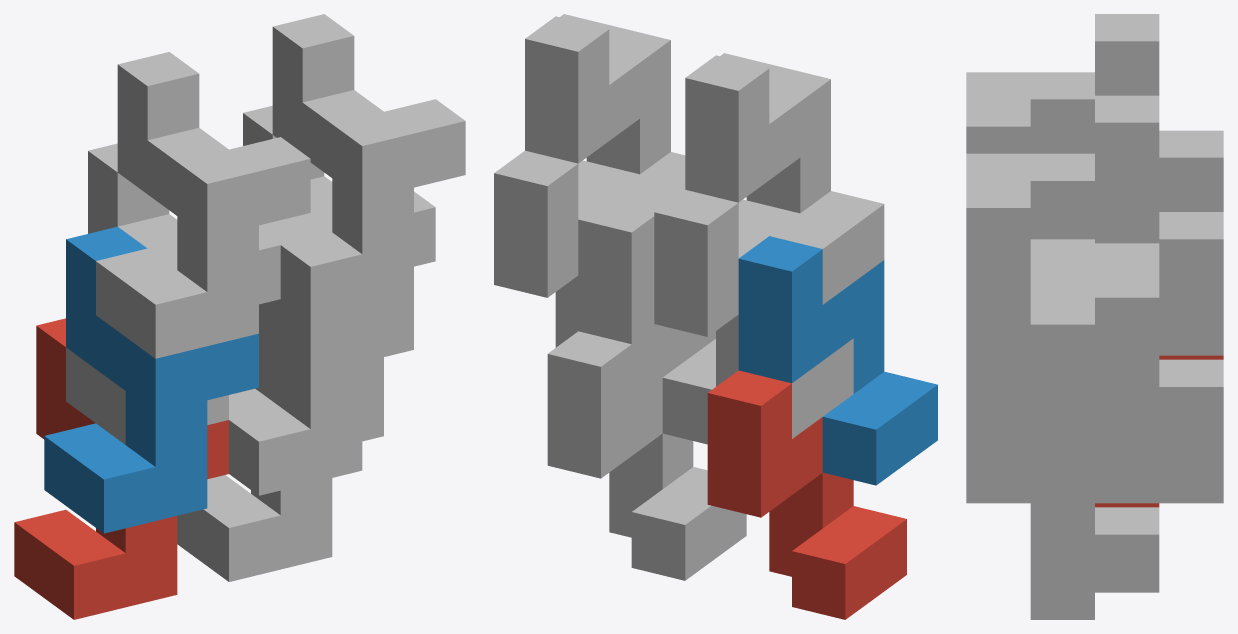
The model's file is tiling.obj.
3 views of the same model, side by side, from view 1: azimuth 30°, elevation 25°; view 2: azimuth 150°, elevation 25°; view 3: azimuth 270°, elevation 25° (orthographic). The views are drawn at different scales.
Parts seen in each view (by area): view 1: copy_1_domain_4, copy_1_domain_8, copy_1_domain_2, copy_1_domain_6, copy_1_domain_1, copy_1_domain_5, copy_1_domain_3, copy_1_domain_7; view 2: copy_1_domain_1, copy_1_domain_4, copy_1_domain_2, copy_1_domain_5, copy_1_domain_8, copy_1_domain_3, copy_1_domain_7, copy_1_domain_6; view 3: copy_1_domain_7, copy_1_domain_8, copy_1_domain_5, copy_1_domain_4, copy_1_domain_6, copy_1_domain_3, copy_1_domain_1.
Boxes of the visible parts, left/top/right/bottom form: copy_1_domain_4: left=96, top=52, right=310, bottom=358; copy_1_domain_8: left=259, top=14, right=465, bottom=320; copy_1_domain_2: left=44, top=226, right=258, bottom=533; copy_1_domain_6: left=229, top=296, right=413, bottom=495; copy_1_domain_1: left=14, top=318, right=228, bottom=619; copy_1_domain_5: left=177, top=382, right=383, bottom=581; copy_1_domain_3: left=66, top=143, right=280, bottom=444; copy_1_domain_7: left=243, top=105, right=435, bottom=406; copy_1_domain_1: left=707, top=370, right=906, bottom=619; copy_1_domain_4: left=685, top=53, right=884, bottom=304; copy_1_domain_2: left=738, top=236, right=937, bottom=485; copy_1_domain_5: left=547, top=331, right=746, bottom=580; copy_1_domain_8: left=525, top=14, right=685, bottom=208; copy_1_domain_3: left=654, top=189, right=853, bottom=438; copy_1_domain_7: left=494, top=150, right=693, bottom=399; copy_1_domain_6: left=578, top=197, right=715, bottom=444; copy_1_domain_7: left=1030, top=212, right=1223, bottom=472; copy_1_domain_8: left=966, top=95, right=1159, bottom=355; copy_1_domain_5: left=1030, top=359, right=1223, bottom=619; copy_1_domain_4: left=966, top=14, right=1159, bottom=153; copy_1_domain_6: left=966, top=243, right=1159, bottom=503; copy_1_domain_3: left=1030, top=130, right=1223, bottom=243; copy_1_domain_1: left=1095, top=355, right=1223, bottom=507.
Size of the model in its own units: 7 by 9 by 4.
